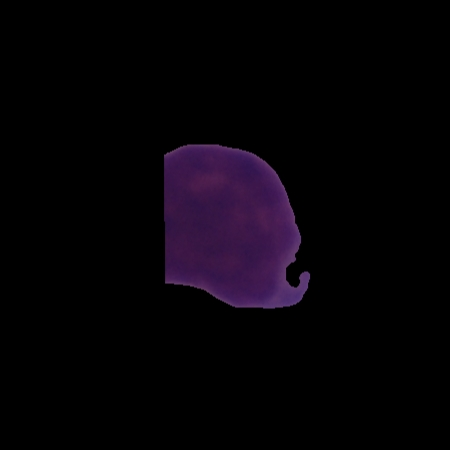ALL: (159, 140, 313, 312)
